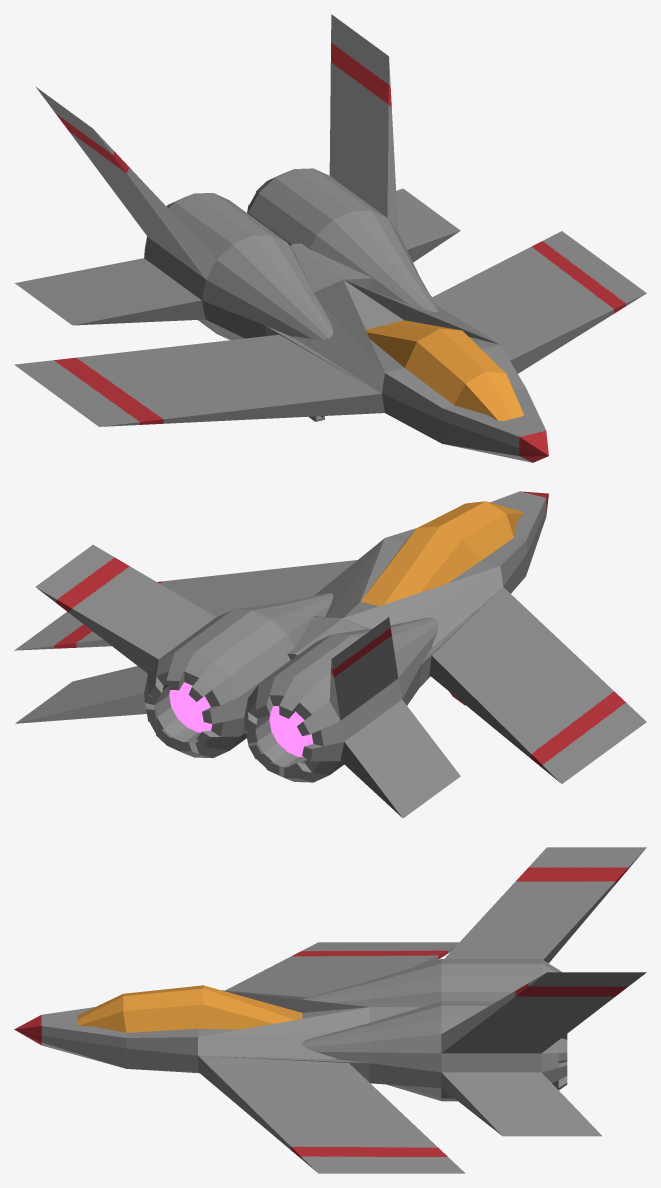
Rendered from jet.fbx.
3 views of the same model, one above another, from view 1: azimuth 30°, elevation 25°; view 2: azimuth 150°, elevation 25°; view 3: azimuth 270°, elevation 25° (orthographic). The views are drawn at different scales.
Visible parts, largest first — view 1: Jet; view 2: Jet; view 3: Jet.
Part boxes in pixels (box(x1,y1,x2,y2)): Jet: box(14, 14, 646, 462); Jet: box(14, 491, 646, 818); Jet: box(14, 847, 646, 1173).
Size of the model in its own units: 88.82 by 29.63 by 103.
1 material, 1 textured.
